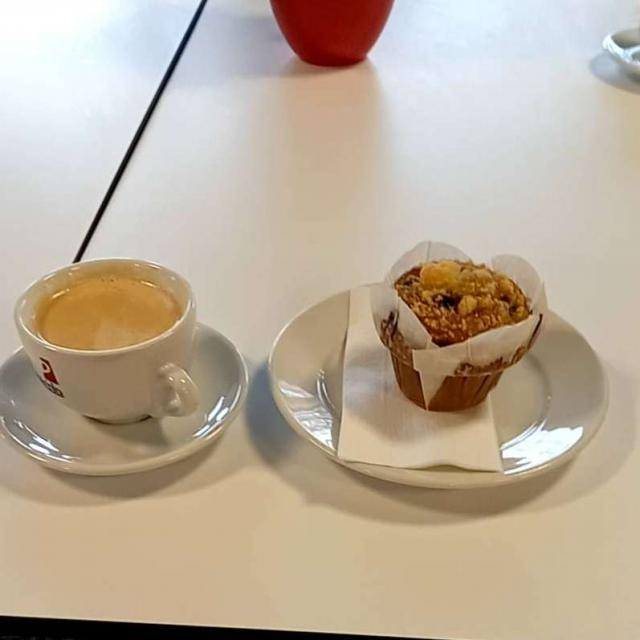coffee: (39, 276, 175, 349)
muffin: (397, 258, 529, 345)
